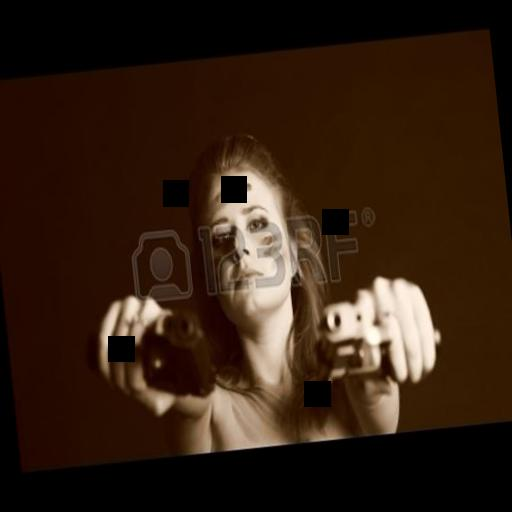Handgun: (301, 260, 445, 402), (76, 296, 220, 408)
